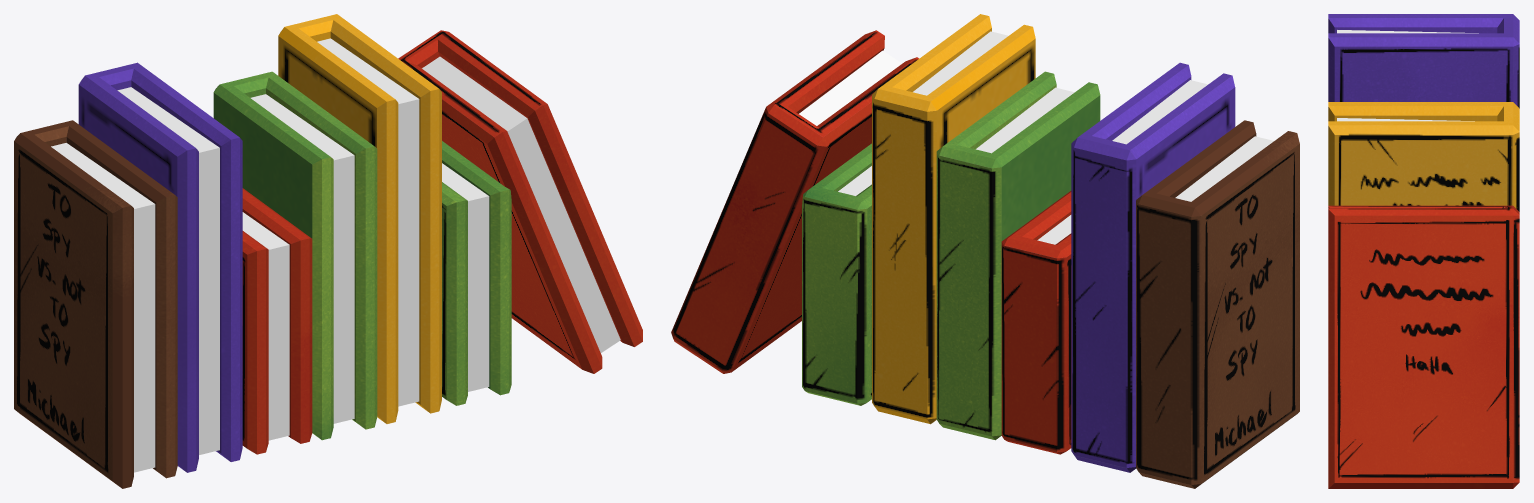
File: Books_A.glb
3 renders of one model, left to right at view 1: azimuth 30°, elevation 25°; view 2: azimuth 150°, elevation 25°; view 3: azimuth 270°, elevation 25°, orthographic. The views are drawn at different scales.
Visible parts, largest first — view 1: Books A; view 2: Books A; view 3: Books A.
Part boxes in pixels (x1,y1,x2,y2): Books A: (14, 14, 642, 488); Books A: (671, 14, 1299, 488); Books A: (1328, 14, 1519, 488).
Size of the model in its own units: 2.55 by 1.48 by 0.8815.
1 material, 1 textured.
